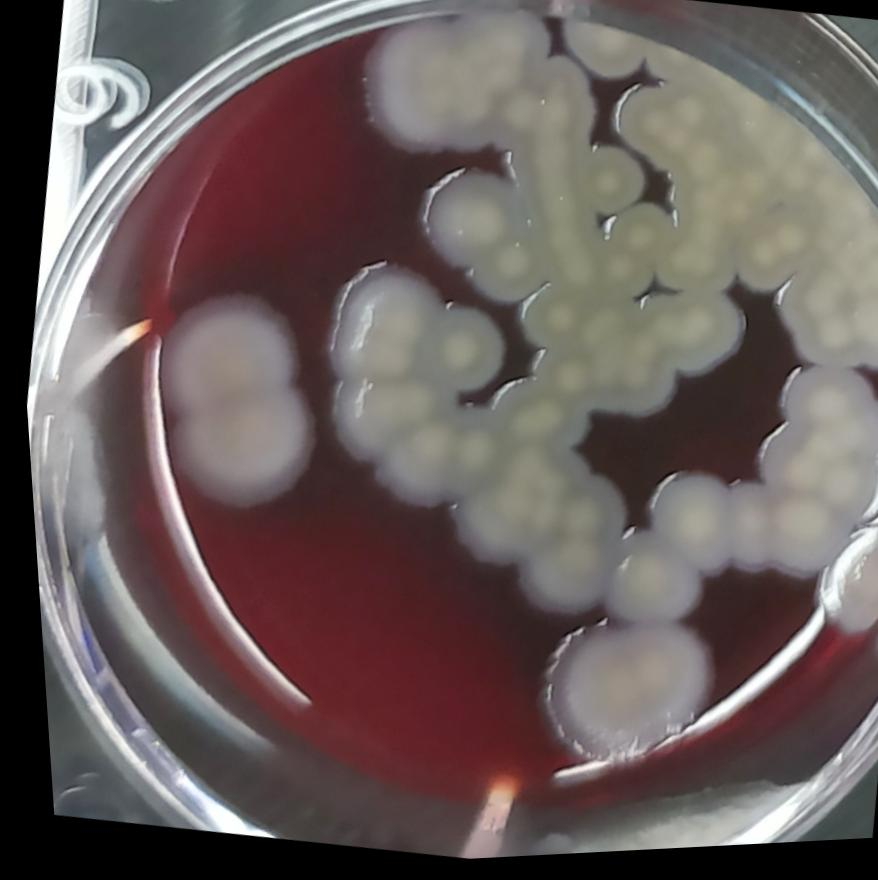bcereus: (512, 602, 730, 798), (333, 12, 510, 181), (140, 371, 326, 531), (305, 375, 501, 524), (142, 271, 313, 424), (312, 241, 448, 395), (398, 158, 531, 294), (617, 456, 742, 593), (757, 265, 878, 398), (584, 533, 706, 644), (630, 286, 753, 394), (470, 370, 593, 478), (492, 528, 602, 639), (749, 483, 852, 598), (413, 301, 519, 408), (804, 519, 878, 663), (537, 466, 635, 564), (550, 9, 656, 99), (766, 364, 869, 454), (599, 79, 686, 172), (743, 423, 834, 507), (454, 231, 541, 317), (596, 349, 678, 433), (507, 279, 589, 363), (572, 138, 649, 226), (594, 198, 674, 280)
